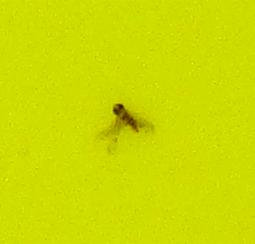Hemiptera: (100, 100, 155, 144)
